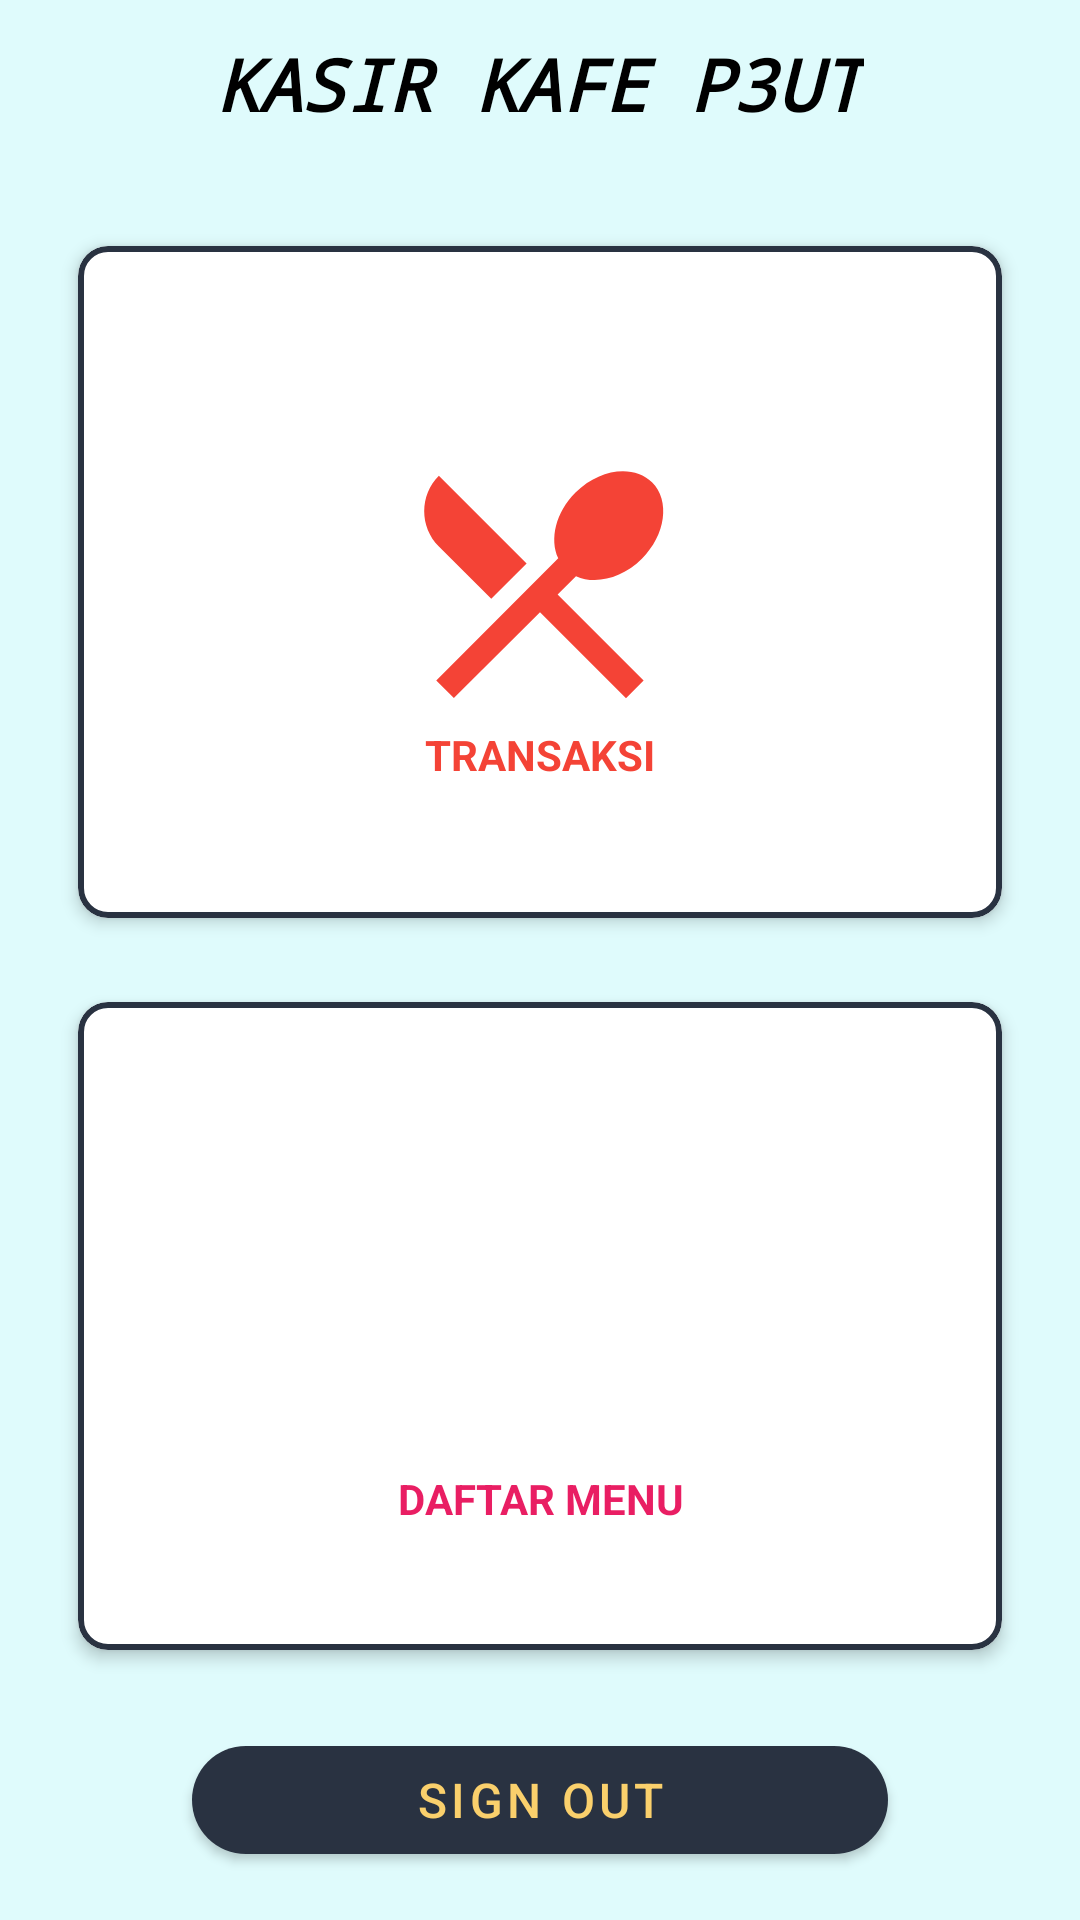

Screen size 1080 × 1920. Icon name, then its box in pixels as Rect(x1, y1, x2, y2):
pesanan: Rect(424, 471, 664, 698)
